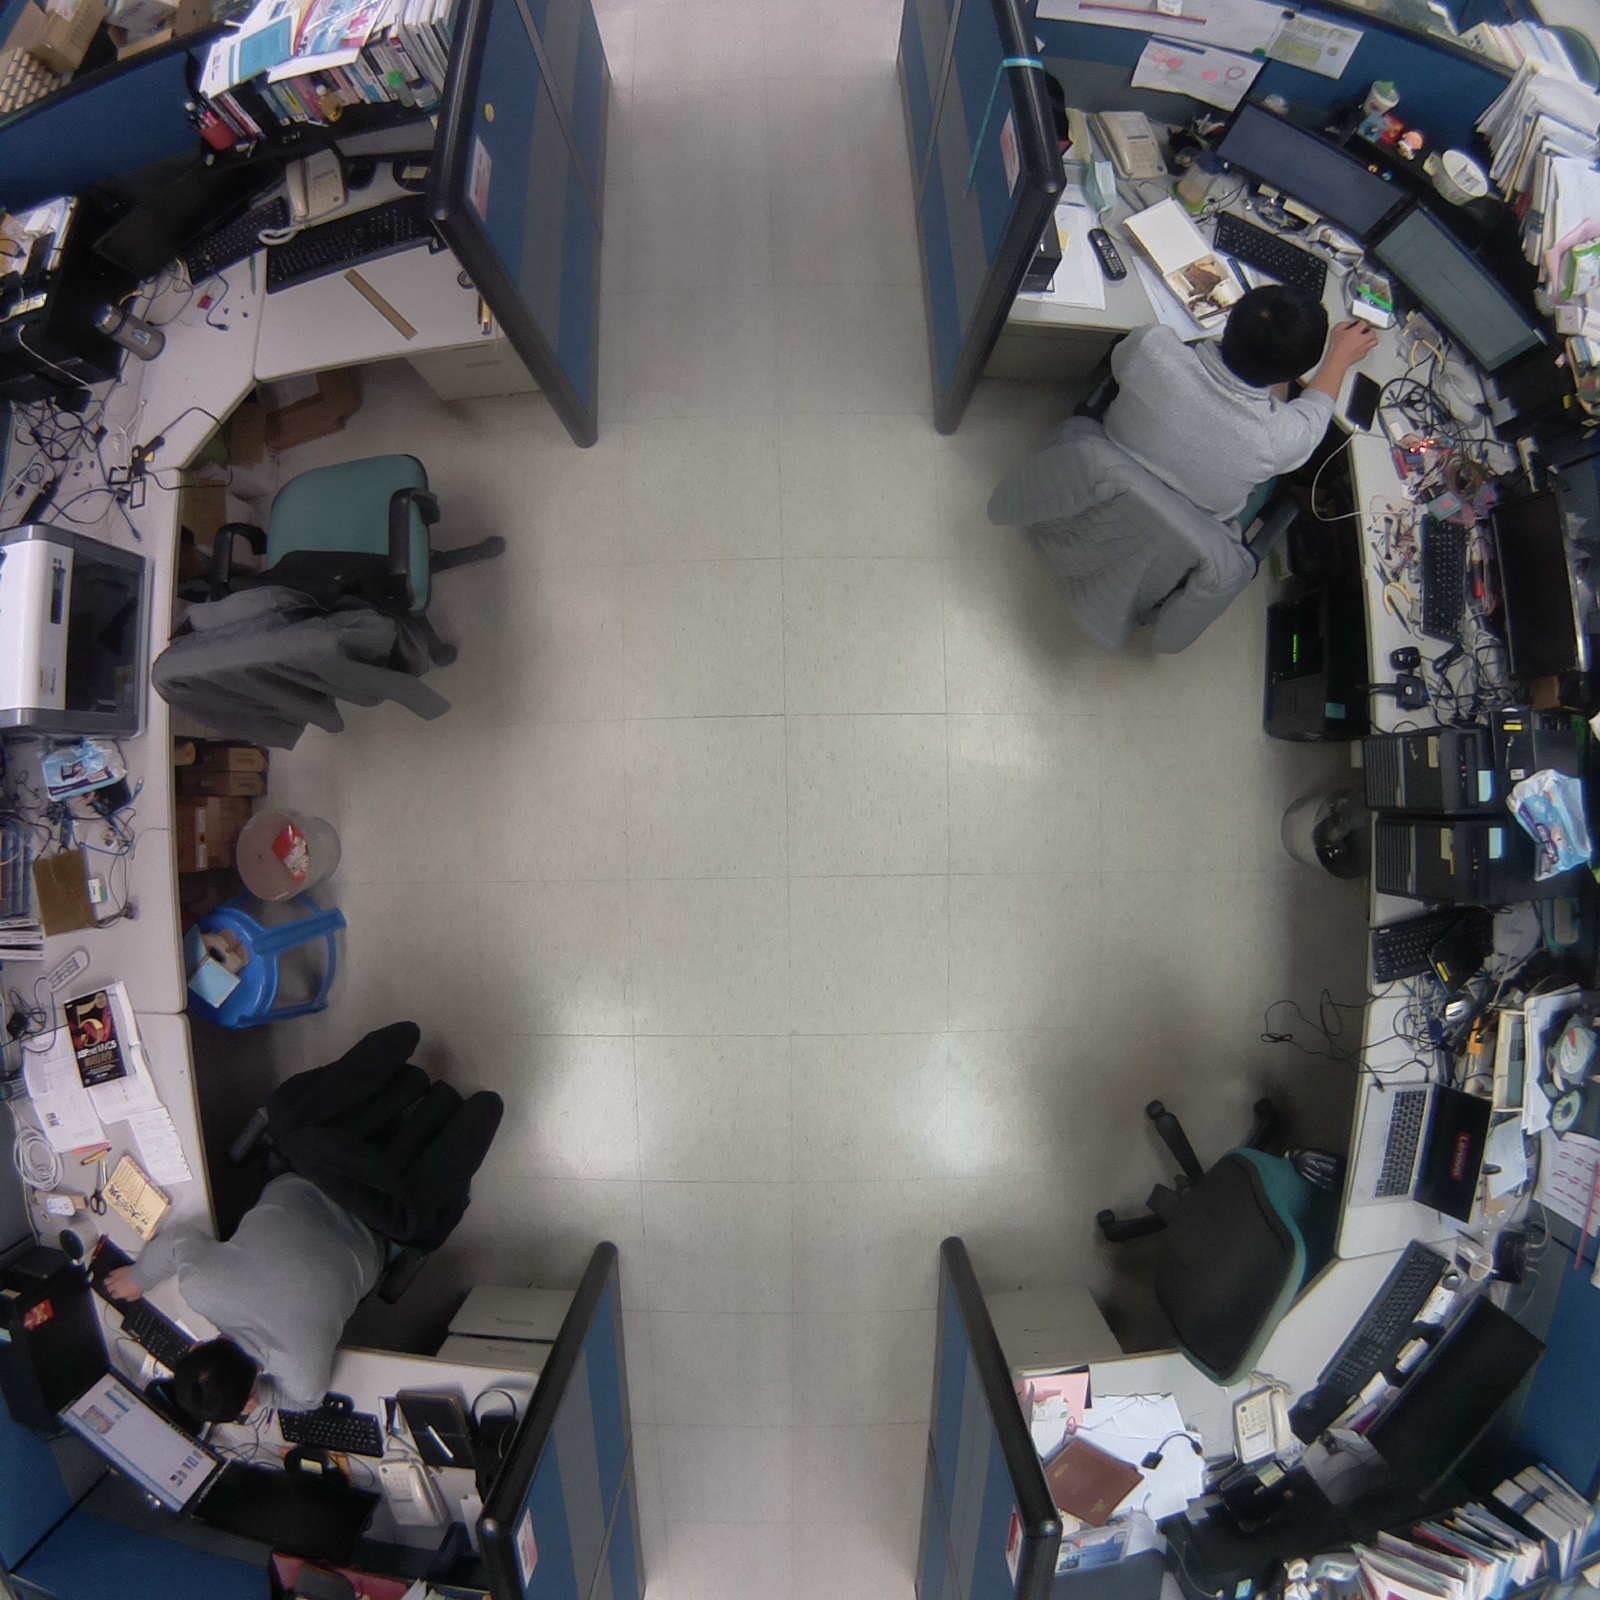chair: (129, 422, 542, 760), (1073, 1065, 1345, 1399)
head: (1210, 280, 1336, 389), (153, 1329, 266, 1434)
sitting: (96, 1009, 542, 1440), (976, 273, 1381, 681)
